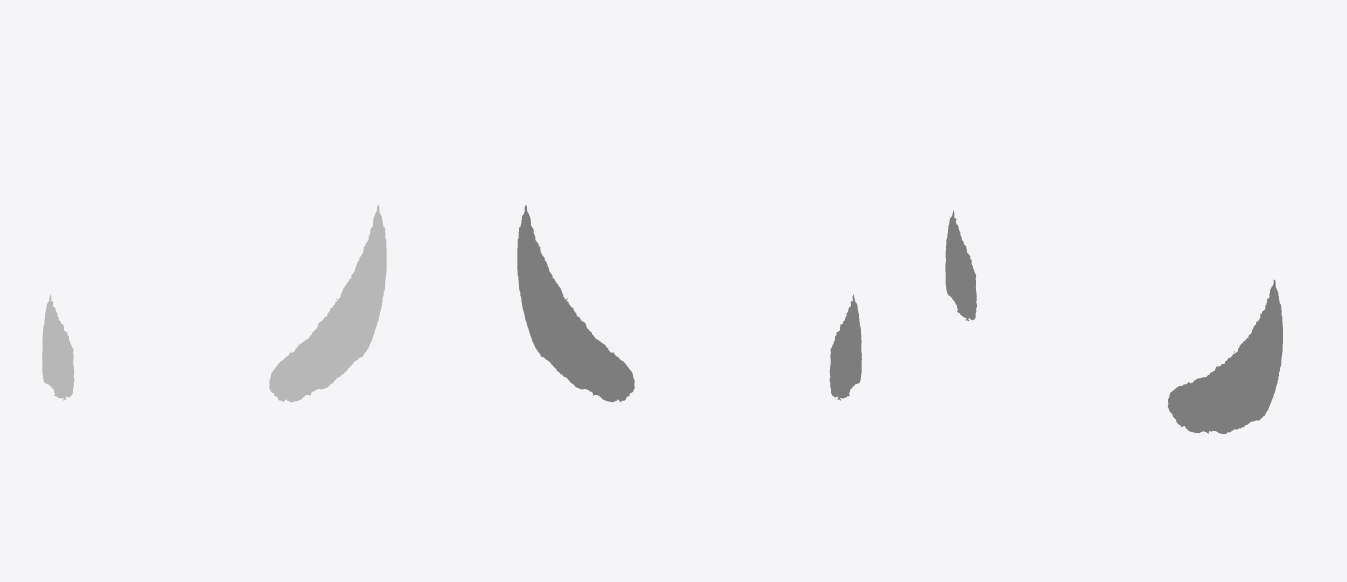
The model's file is effect_guanqia_wuyueweimian_xinghuigaoyuan_dongzuo #53060746.fbx.
3 views of the same model, side by side, from view 1: azimuth 30°, elevation 25°; view 2: azimuth 150°, elevation 25°; view 3: azimuth 330°, elevation 25° (orthographic). The views are drawn at different scales.
Parts seen in each view (by area): view 1: Plane001; view 2: Plane001; view 3: Plane001.
Part boxes in pixels (x1,y1,x2,y2): Plane001: (42,205,386,402); Plane001: (517,205,861,402); Plane001: (945,210,1282,433).
Size of the model in its own units: 0.4347 by 0.457 by 1.39e-07.
